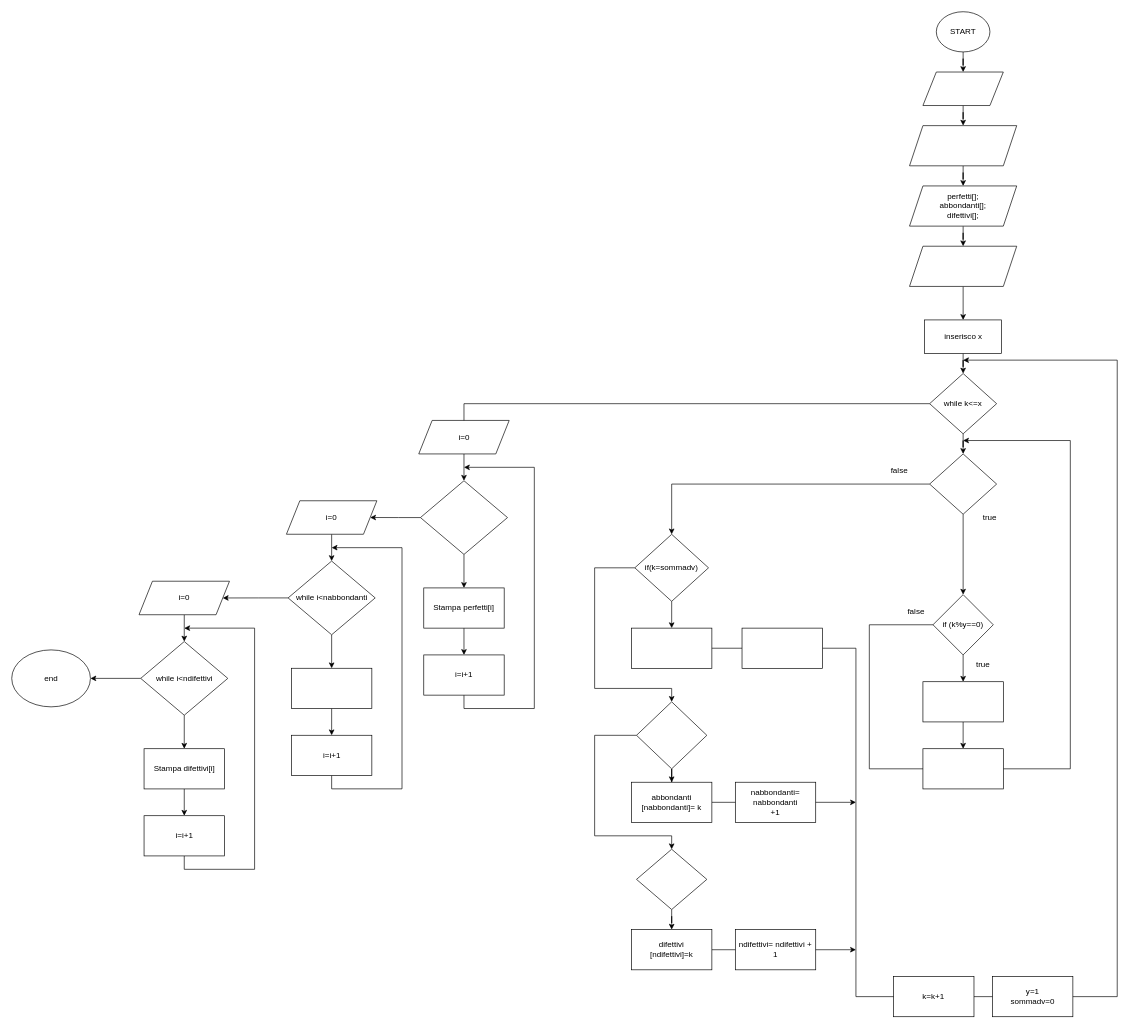
The diagram is 1134 pixels wide and 1028 high, and some of its shapes have lost their labels. The shapes that lost their labels are listed below. From the top down, each one's centre as x and y in pixels, then its label:
the point at 962,88: i int x int y=1 int k=1
the point at 963,145: sommadv= 0
the point at 963,266: nperfetti=0; nabbondanti=0; ndifettivi=0;
the point at 963,483: while y<k
the point at 464,517: while i<nperfetti
the point at 671,647: perfetti[nperfetti] = k
the point at 781,647: nperfetti=nperfetti +1
the point at 331,688: Stampa abbondanti[i]
the point at 962,701: sommadv= sommadv+y
the point at 671,735: if(k<sommadv
the point at 962,768: y=y+1
the point at 671,879: if(k>sommadv)
